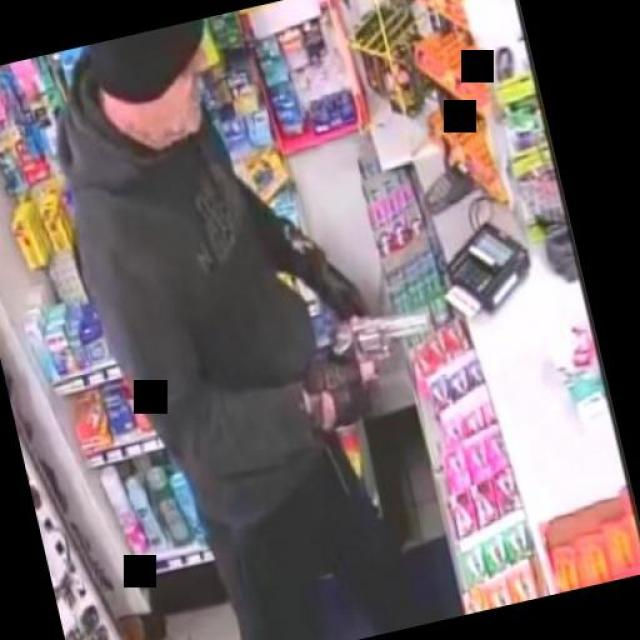gun: (322, 296, 450, 419)
